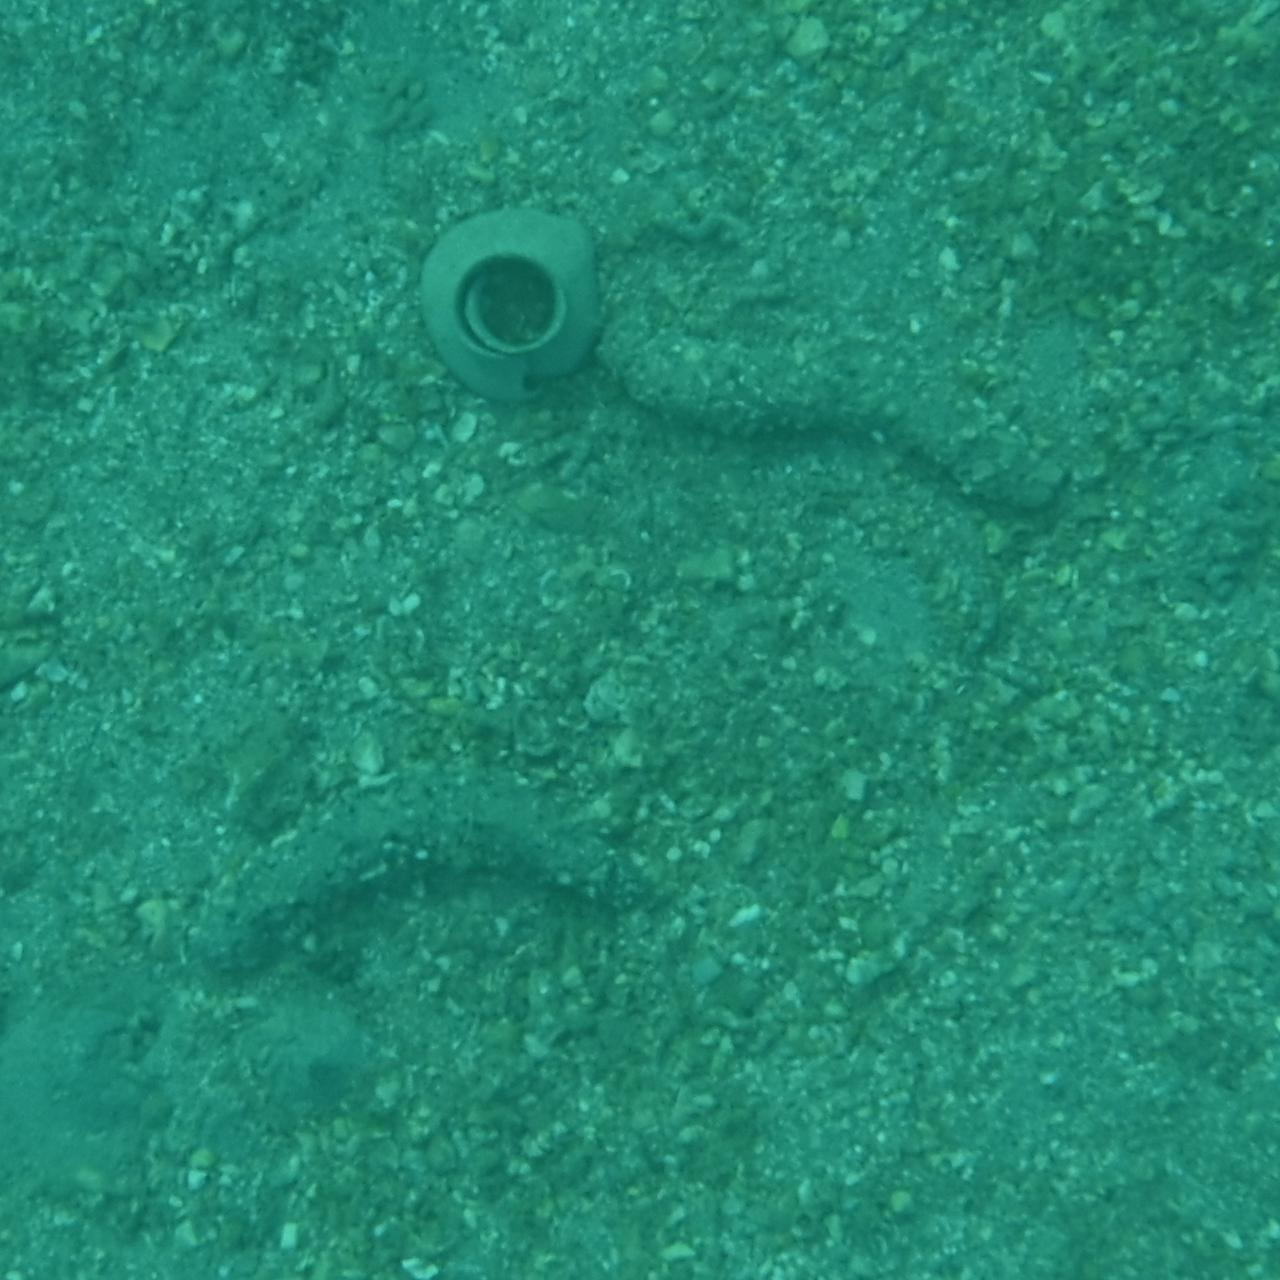Holothuria tubulosa: (595, 278, 1101, 545), (188, 757, 679, 983)
